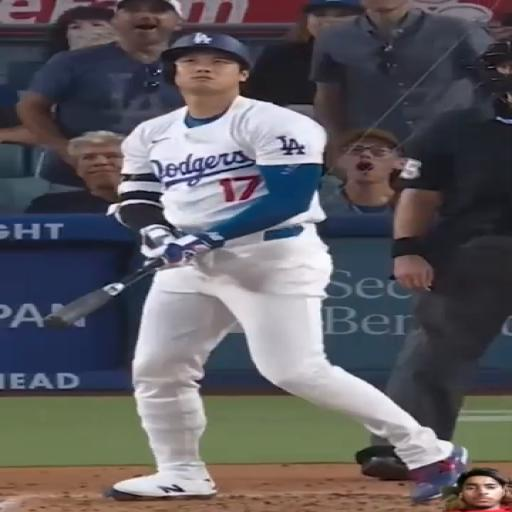bat: (43, 259, 164, 327)
